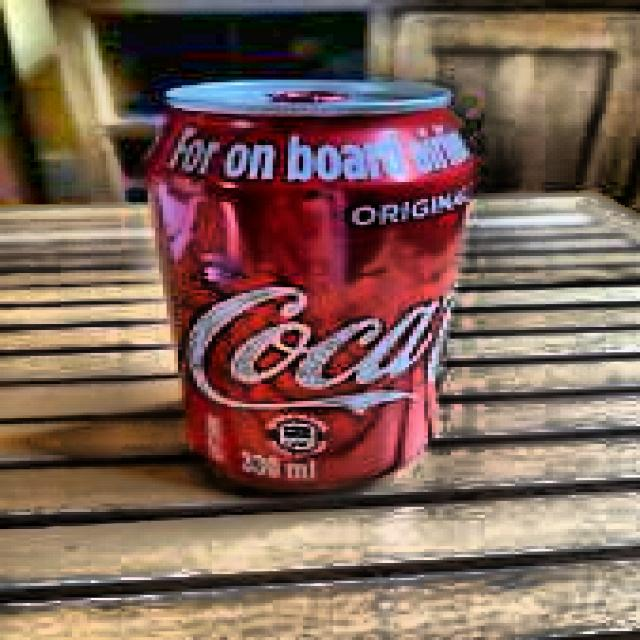Cans: (134, 66, 490, 507)
